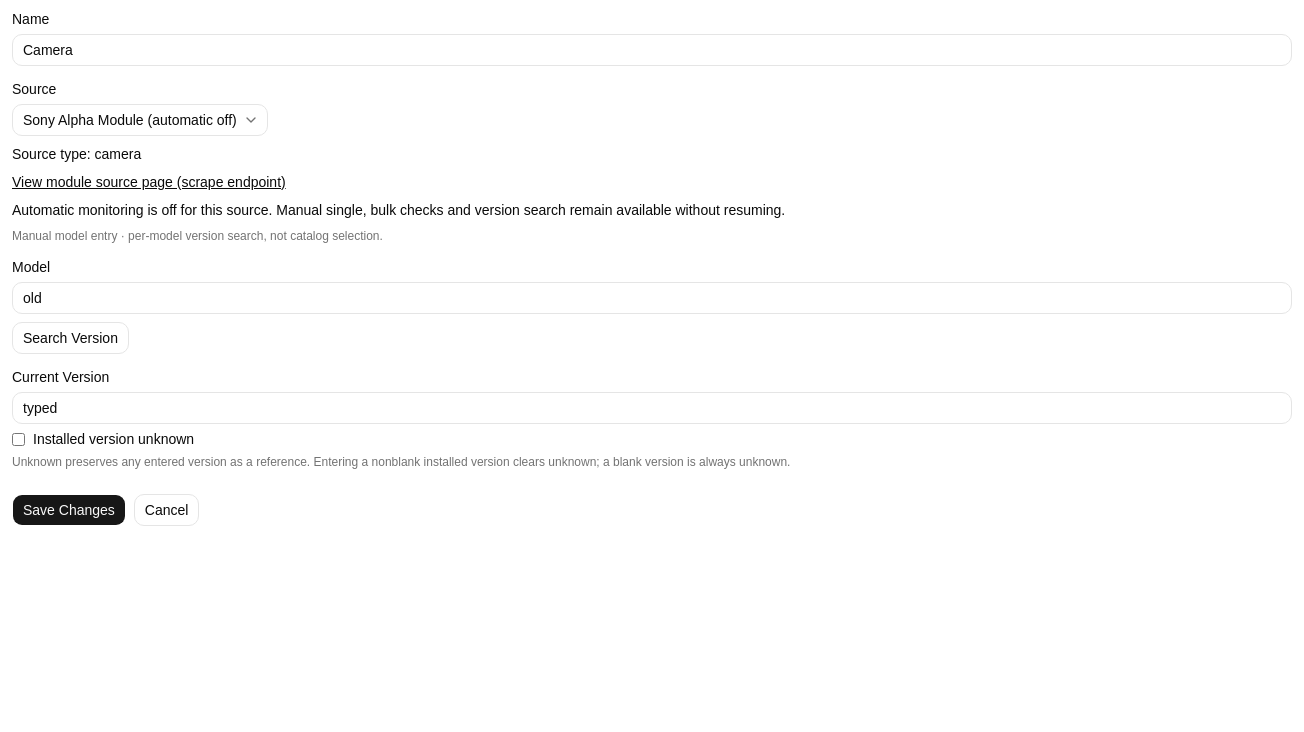
Test case: DeviceForm › discards stale success/error and finally after model edit (false)
This screenshot has width=1304, height=732.
Click the button "Search Version" at (70, 338), box [12,322,129,354]
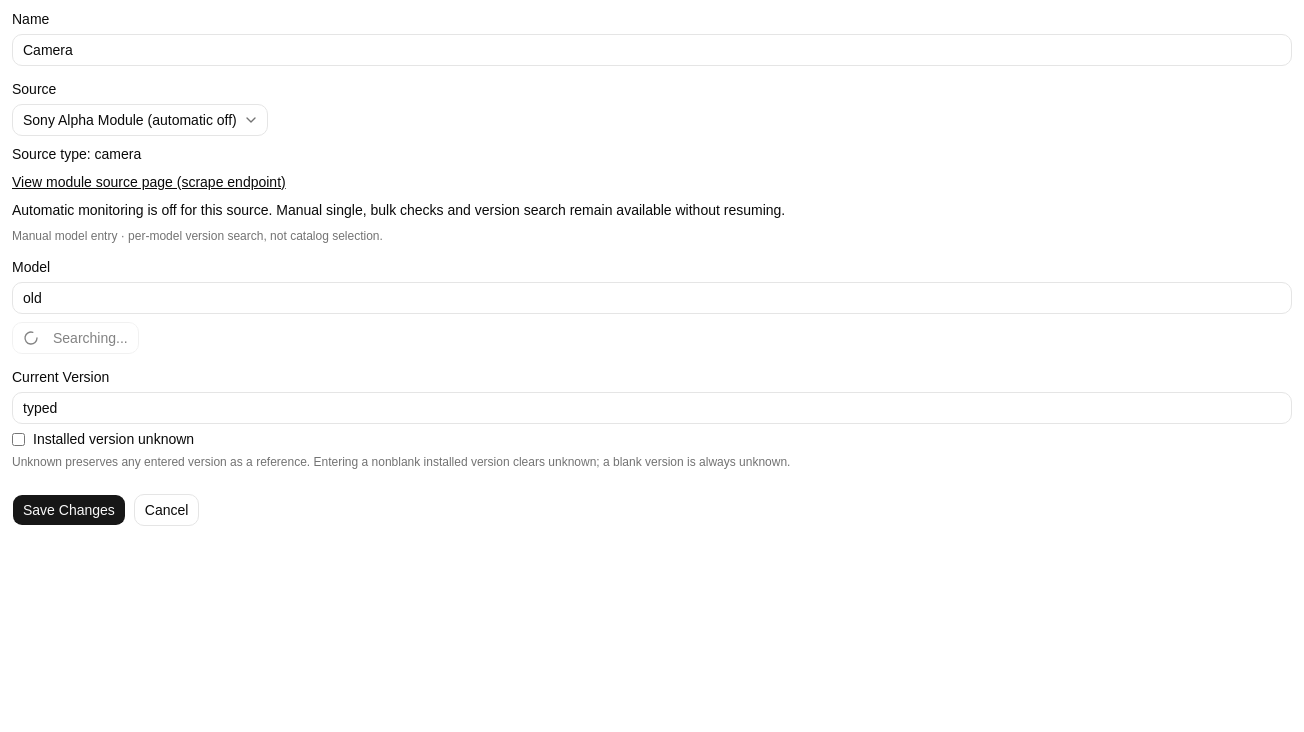
Replace the text in the field labelled "Model" with "new" at (652, 298), box [12,282,1292,314]
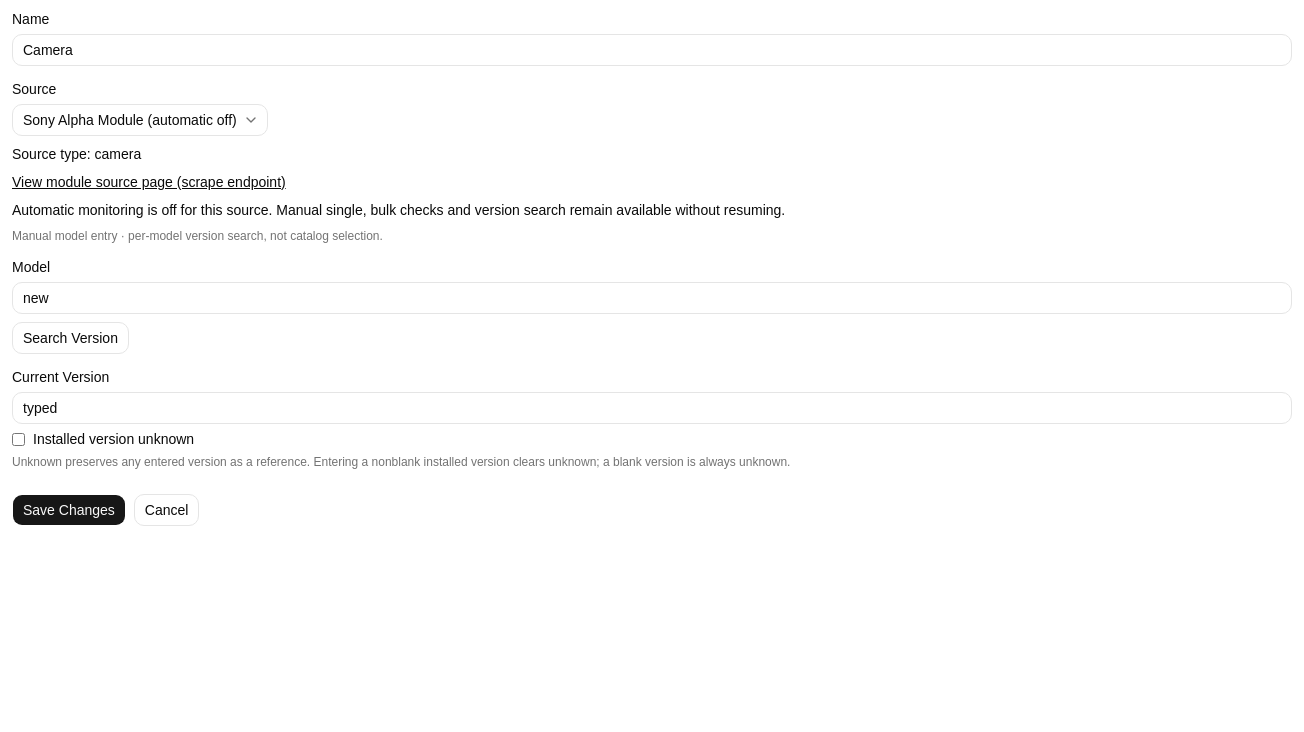
Expected: the field labelled "Current Version" holds "typed", [12,392,1292,424]
Expected: the button "Search Version" is enabled, [12,322,129,354]
